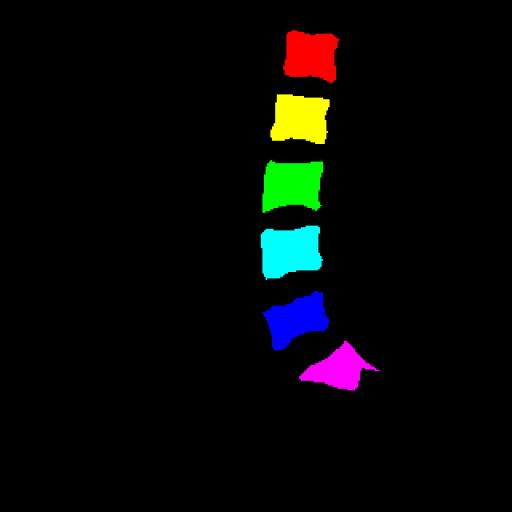L1: (283, 30, 339, 83)
L2: (270, 94, 330, 144)
L3: (262, 160, 323, 213)
L4: (261, 226, 322, 279)
L5: (264, 291, 328, 351)
S1: (299, 341, 379, 390)
